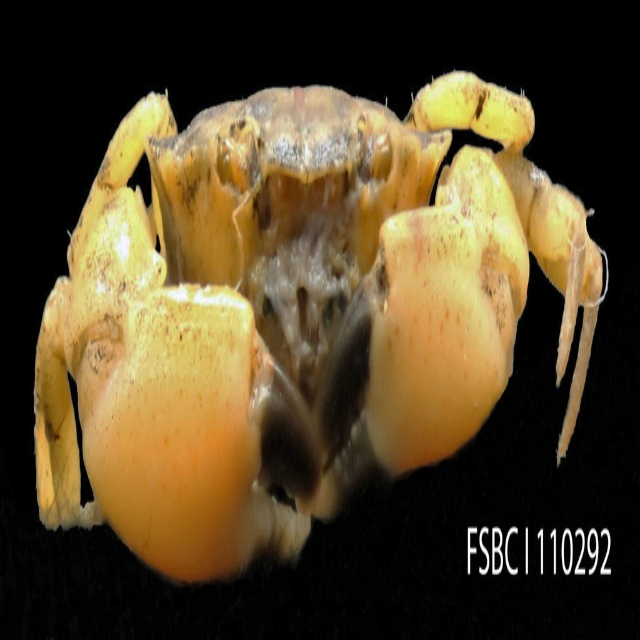Crab: (32, 68, 604, 586)
